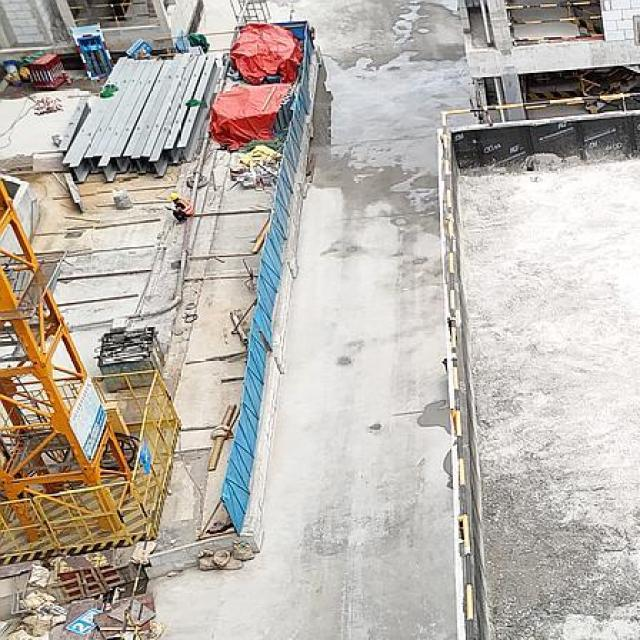edge_guardrail: (440, 91, 640, 640), (506, 1, 604, 42), (70, 2, 150, 24)
